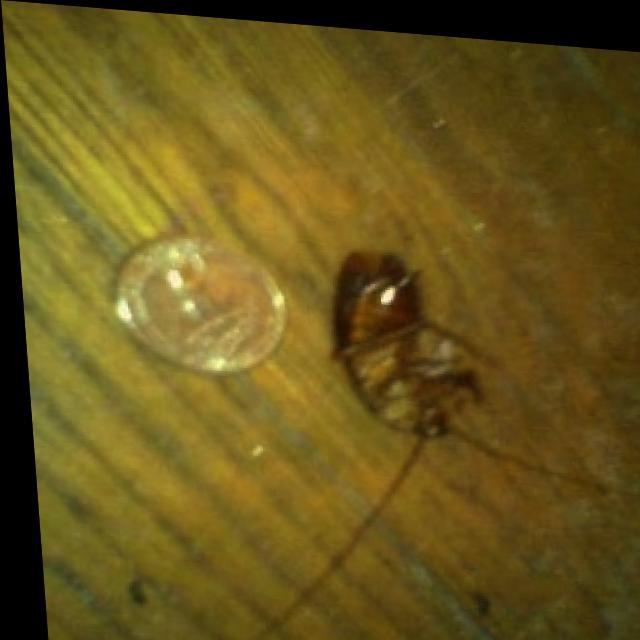cockroach: (311, 227, 543, 578)
